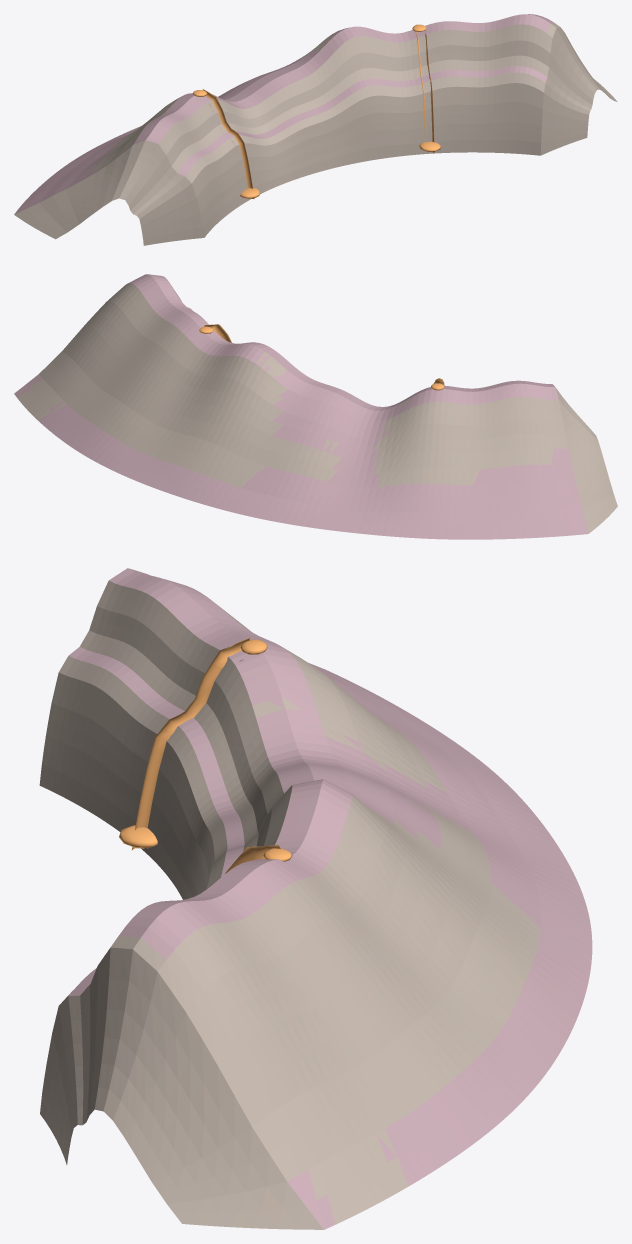
The model's file is CraterWall.glb.
The picture shows the model from 3 angles, top to bottom: view 1: azimuth 30°, elevation 25°; view 2: azimuth 150°, elevation 25°; view 3: azimuth 270°, elevation 25°; orthographic projection. The views are drawn at different scales.
Parts seen in each view (by area): view 1: Rock, Ledge, Lava; view 2: Rock, Ledge, Lava; view 3: Rock, Ledge, Lava.
Boxes of the visible parts, x1,y1,x2,y2 form: Rock: (14, 22, 617, 245); Ledge: (14, 14, 553, 214); Lava: (192, 24, 440, 199); Rock: (16, 283, 617, 533); Ledge: (14, 274, 588, 539); Lava: (199, 324, 444, 390); Rock: (39, 581, 540, 1229); Ledge: (68, 568, 592, 1229); Lava: (119, 637, 292, 873).
Bounding box in the file's own units: 203 × 38.17 × 84.62.
